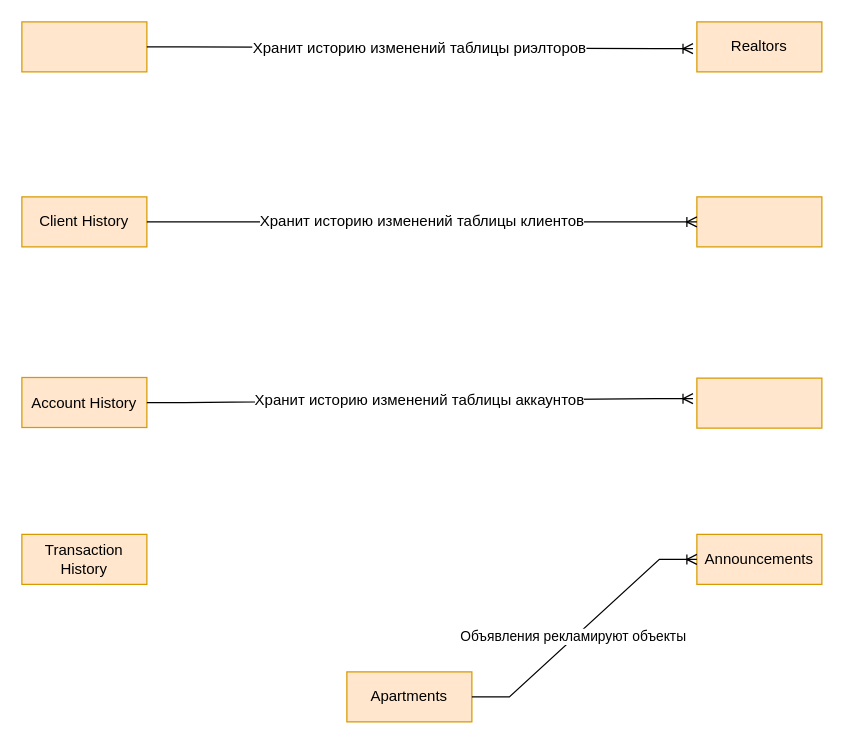
Image size: 844x744. Some labels were removed from this diagram. The shapes that lost their labels are listed below. From the top down, each one's centre as x and y in pixels, then its label:
At pixel 84 46: "Realtor History".
At pixel 759 221: "Clients".
At pixel 759 402: "Accounts".
